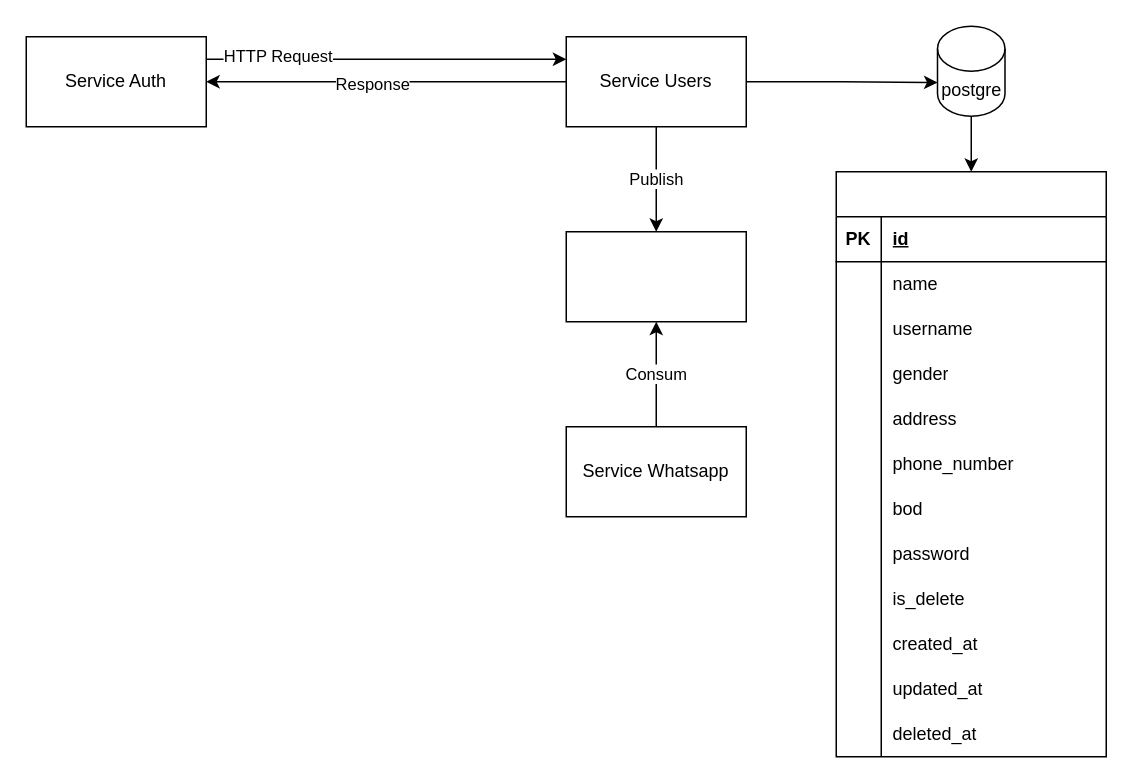
Some shapes in this 1133 by 783 pixel diagram are drawn without their labels. Each missing label, with the box of its shape:
RabbitMq: (565, 230, 746, 322)
users: (835, 170, 1106, 757)
